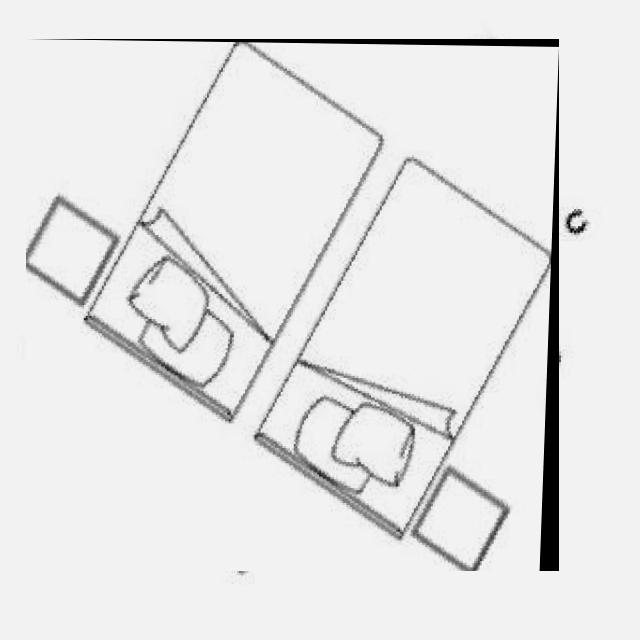bed: (26, 39, 559, 571)
